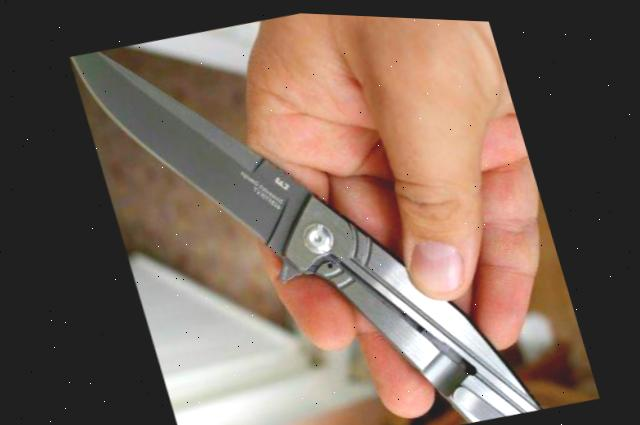pocket-knife: (65, 2, 419, 353)
